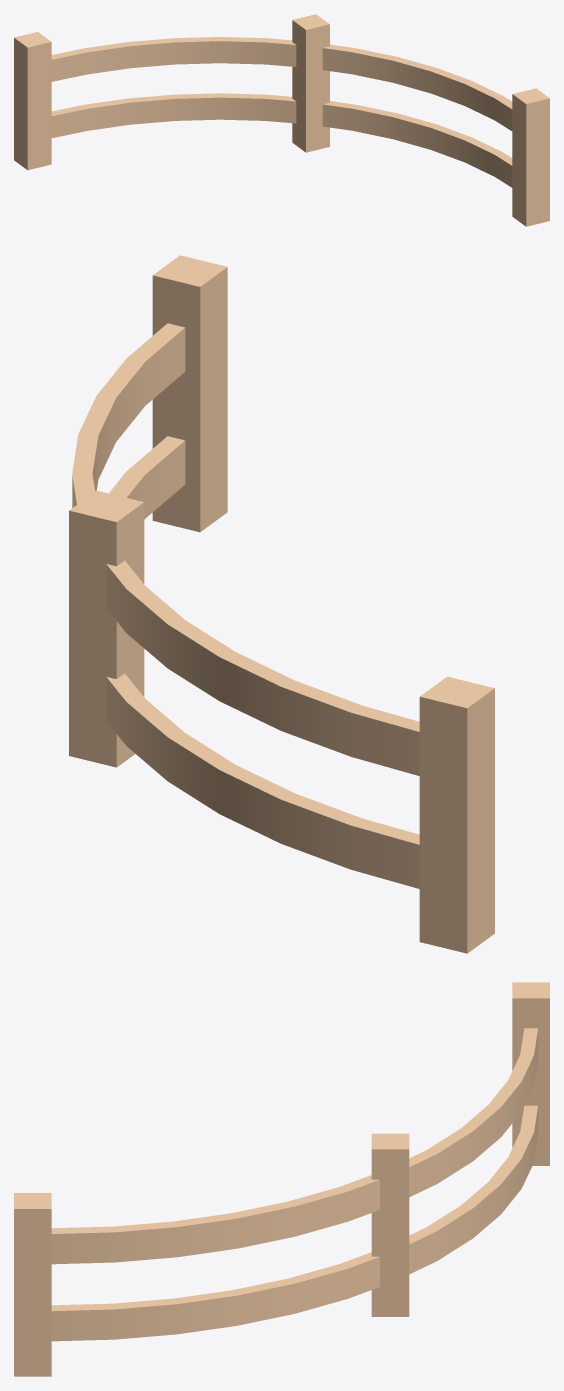
File: fence_cornerRoundStrong.glb
3 views of the same model, one above another, from view 1: azimuth 30°, elevation 25°; view 2: azimuth 150°, elevation 25°; view 3: azimuth 270°, elevation 25° (orthographic). The views are drawn at different scales.
Parts seen in each view (by area): view 1: fence_cornerRoundStrong; view 2: fence_cornerRoundStrong; view 3: fence_cornerRoundStrong.
Boxes of the visible parts, x1,y1,x2,y2 form: fence_cornerRoundStrong: (14, 14, 549, 226); fence_cornerRoundStrong: (69, 255, 494, 953); fence_cornerRoundStrong: (14, 982, 549, 1376).
Bounding box in the file's own units: 1 × 0.345 × 1.
